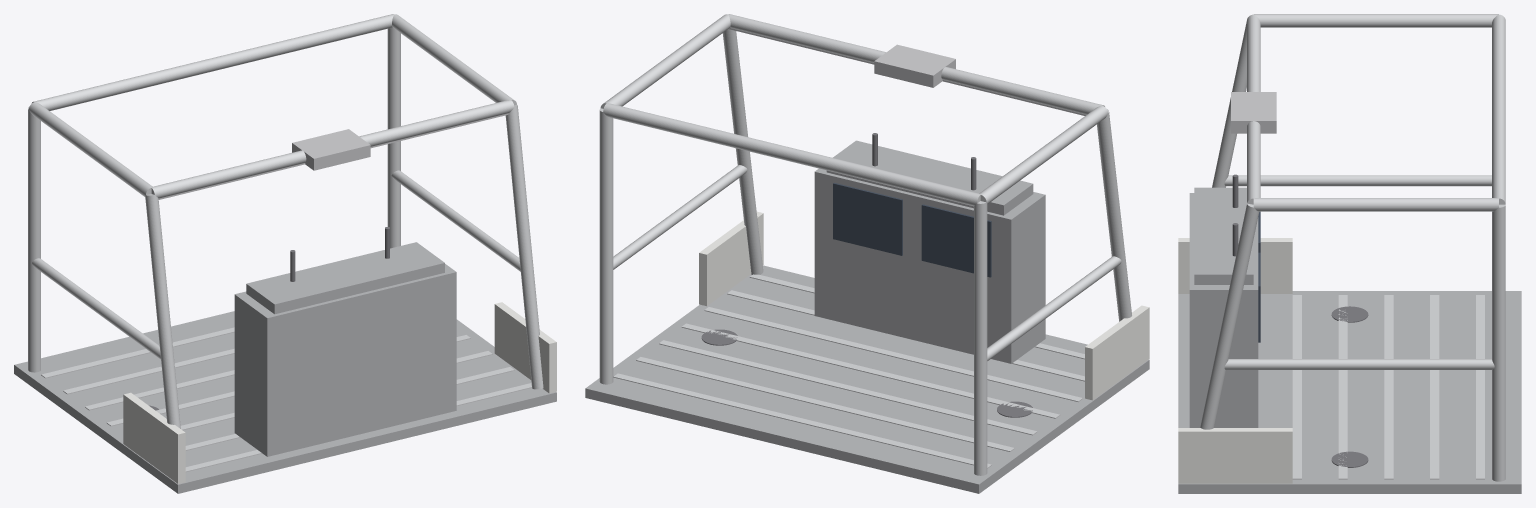
Rendered from rover23_open_cab.glb.
The picture shows the model from 3 angles, left to right: view 1: azimuth 30°, elevation 25°; view 2: azimuth 150°, elevation 25°; view 3: azimuth 270°, elevation 25°; orthographic projection. The views are drawn at different scales.
Parts seen in each view (by area): view 1: console, roll_cage, floor_pan, fenders, tread_plate, mast_plate; view 2: floor_pan, roll_cage, console, tread_plate, displays, fenders, mast_plate, seat_sockets; view 3: floor_pan, roll_cage, console, fenders, tread_plate, mast_plate, seat_sockets, t_handles, displays.
Boxes of the visible parts, x1=… form: console: x1=234, y1=242, x2=456, y2=456; roll_cage: x1=28, y1=14, x2=543, y2=428; floor_pan: x1=14, y1=311, x2=556, y2=493; fenders: x1=123, y1=302, x2=556, y2=483; tread_plate: x1=41, y1=327, x2=531, y2=472; mast_plate: x1=151, y1=113, x2=508, y2=199; floor_pan: x1=585, y1=265, x2=1149, y2=493; roll_cage: x1=599, y1=14, x2=1131, y2=475; console: x1=814, y1=140, x2=1045, y2=363; tread_plate: x1=613, y1=274, x2=1084, y2=468; displays: x1=833, y1=182, x2=991, y2=277; fenders: x1=699, y1=211, x2=1149, y2=400; mast_plate: x1=729, y1=28, x2=1104, y2=115; seat_sockets: x1=701, y1=329, x2=1032, y2=417; floor_pan: x1=1178, y1=291, x2=1521, y2=493; roll_cage: x1=1200, y1=14, x2=1505, y2=481; console: x1=1189, y1=187, x2=1258, y2=427; fenders: x1=1178, y1=238, x2=1292, y2=483; tread_plate: x1=1292, y1=295, x2=1484, y2=479; mast_plate: x1=1231, y1=92, x2=1276, y2=203; seat_sockets: x1=1331, y1=306, x2=1368, y2=467; t_handles: x1=1232, y1=174, x2=1238, y2=256; displays: x1=1258, y1=211, x2=1260, y2=342.
Bounding box in the file's own units: 2 × 1.4 × 1.5.
